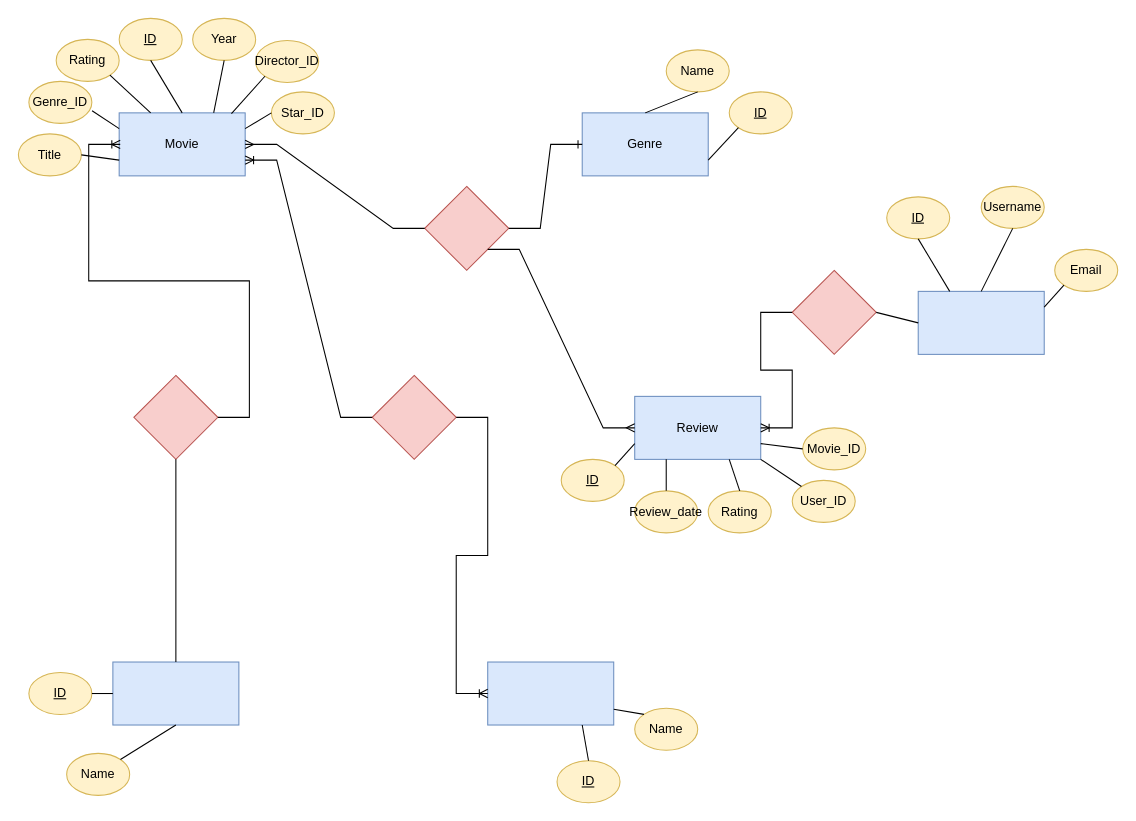
This 1136x821 diagram has some shape labels left out. Here are the shapes that lost their labels. From the top down, the centre of each, then its label:
[466,227]: has a
[833,311]: writes
[980,322]: User
[175,416]: directs
[413,416]: features
[175,693]: Director
[550,693]: Actor (Star)
